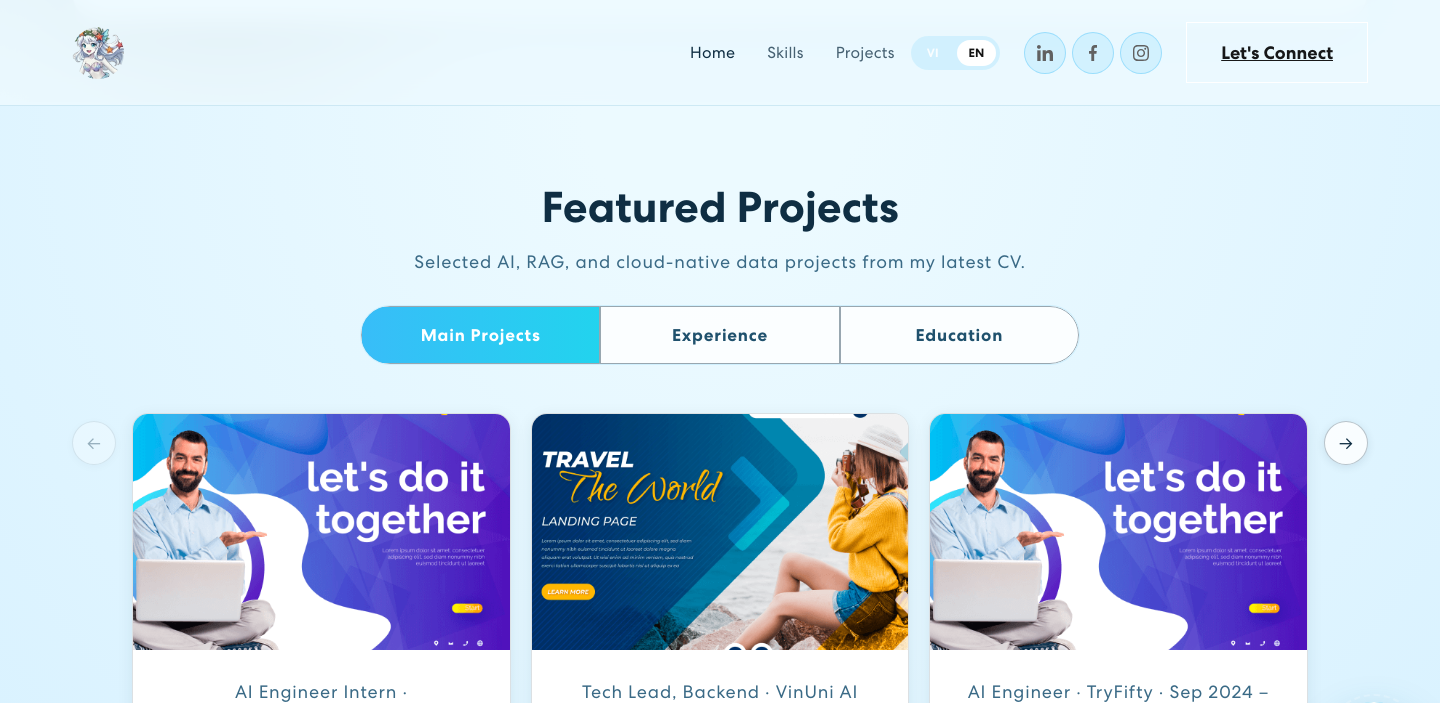
it: resets to first page when language changes
This screenshot has width=1440, height=703.
(page scrolled)
Click the button named "next page" at coordinates (1346, 443), box [1324,421,1368,465]
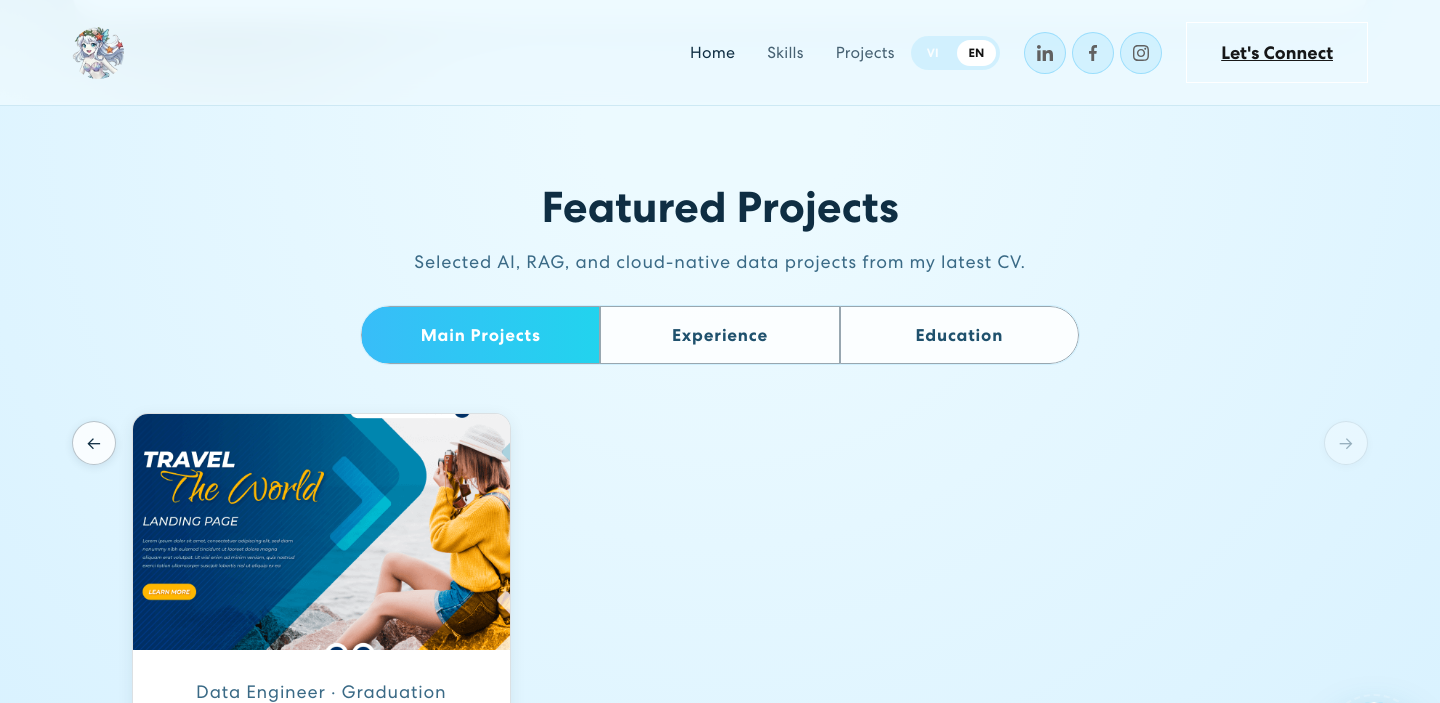
Click the button "VI" at coordinates (933, 52), box [915,40,950,66]
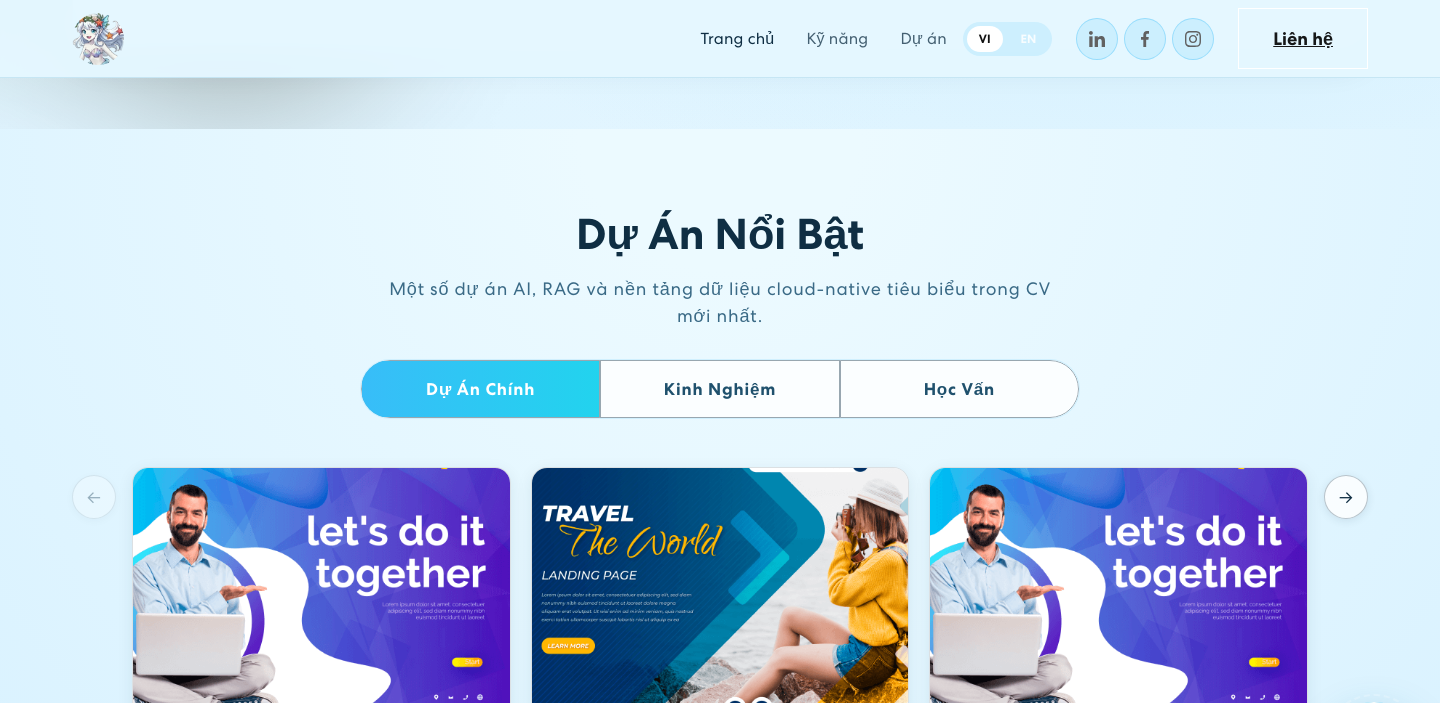
Now the button named "trang trước" is disabled, box [72,475,116,519]
